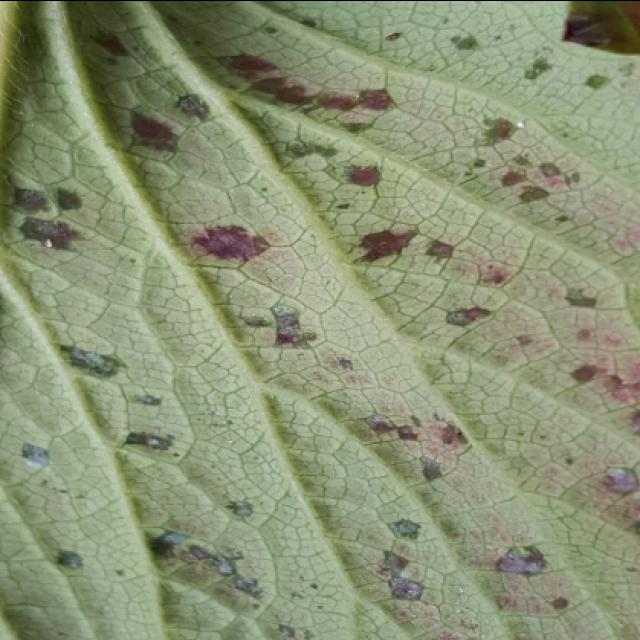Angular Leafspot: (10, 2, 638, 640)
